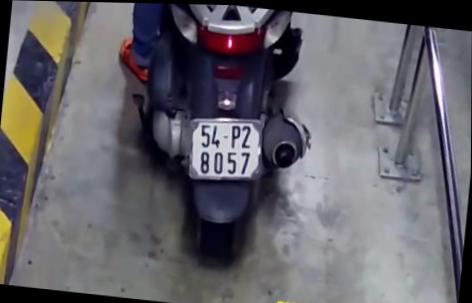LP: (184, 108, 271, 184)
